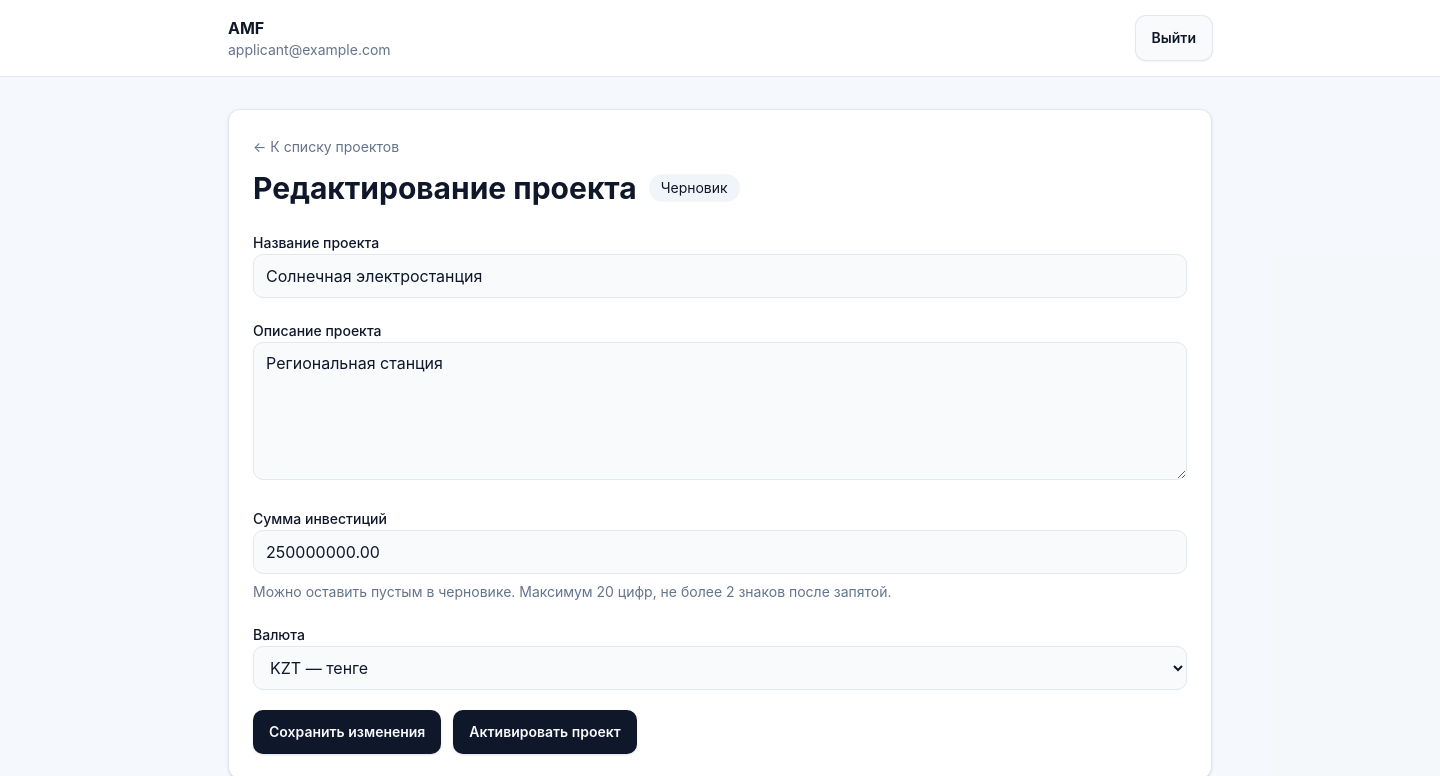
project editor › keeps entered values and shows no success when the session CSRF check fails
Step 1. Replace the text in the field labelled "Название проекта" with "Несохранённое название" → point(720, 276), box [253,254,1187,298]
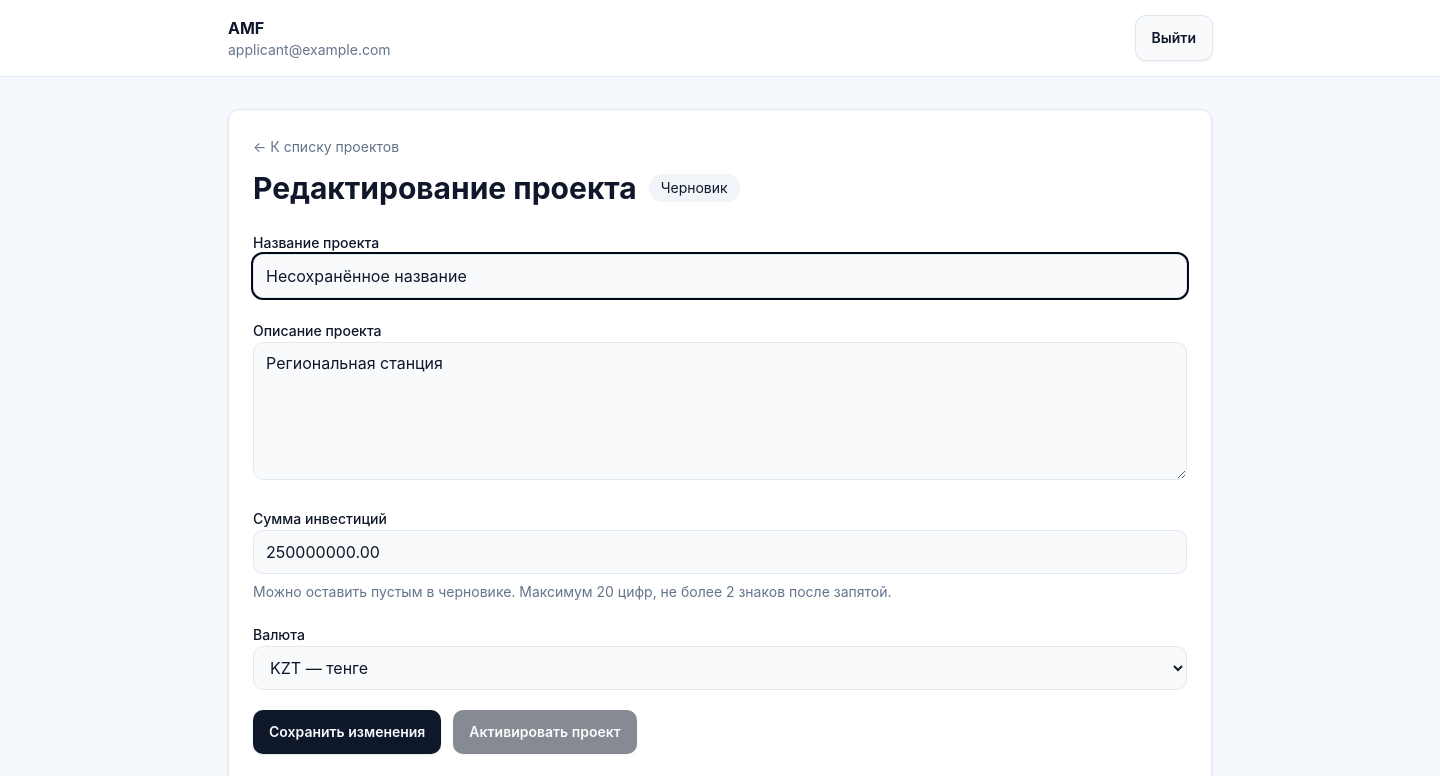
Step 2. Click the button "Сохранить изменения" → point(347, 732), box [253,710,441,754]
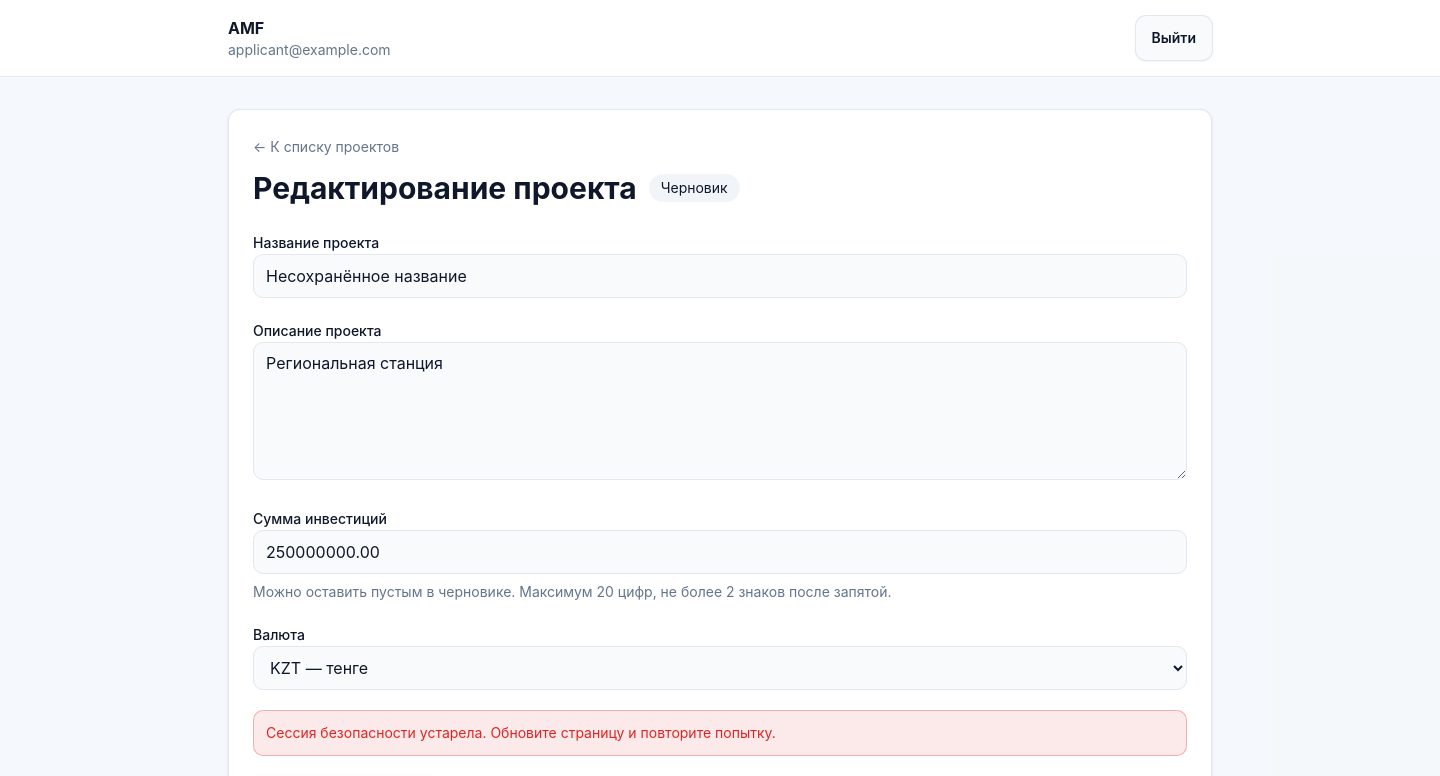
Check: the message shows "Сессия безопасности устарела", box [266,724,776,741]
